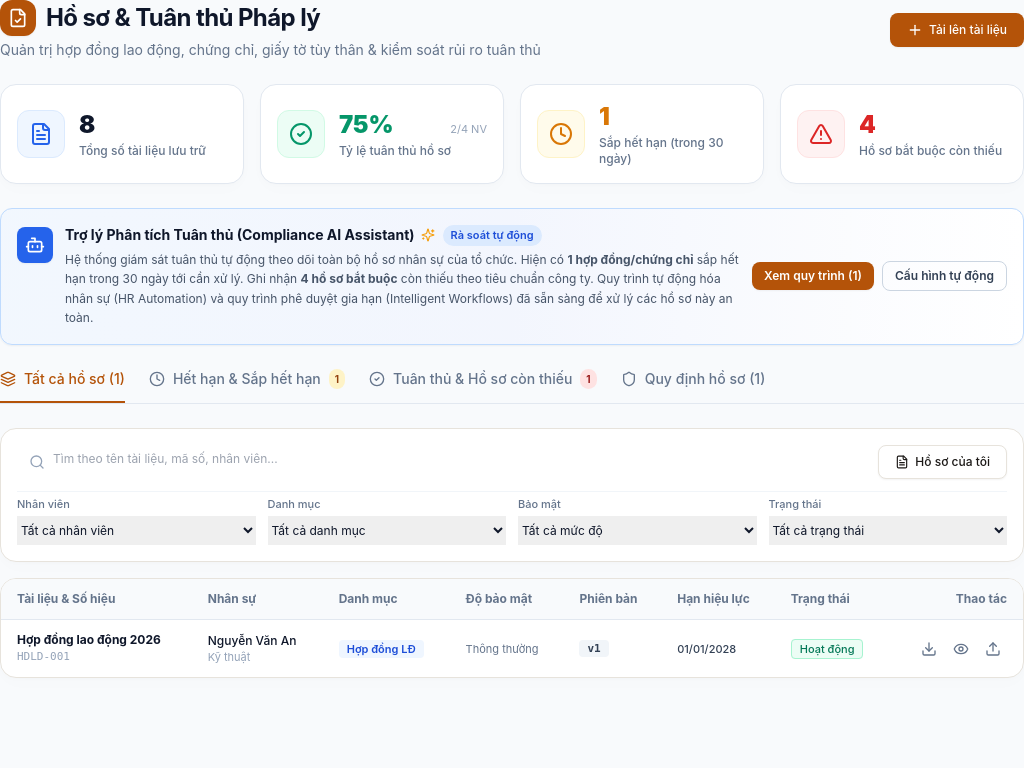
Test: Documents & HR Compliance Management (TASK 9) › opens DocumentDetailModal with multi-version history when clicking a document
Click the button "Hợp đồng lao động 2026".
click(89, 640)  # box [17,632,161,648]
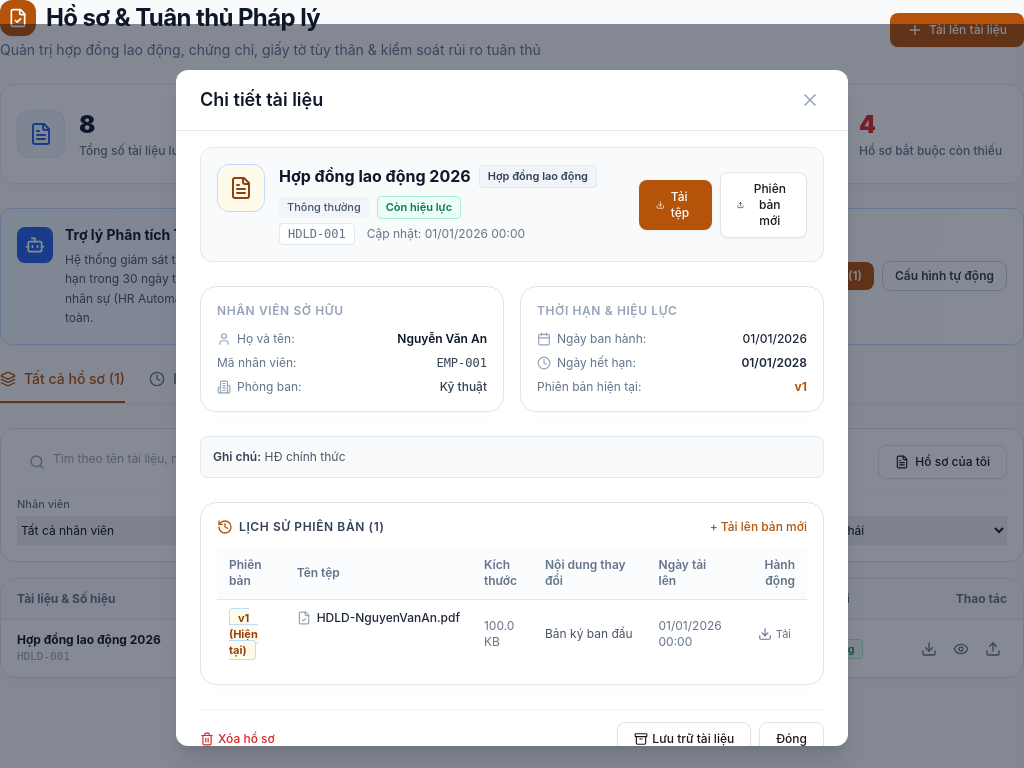
Result: the heading "Chi tiết tài liệu" is shown at [200,86,323,114]
Result: the text "Bản ký ban đầu" is shown at [533,599,646,668]
